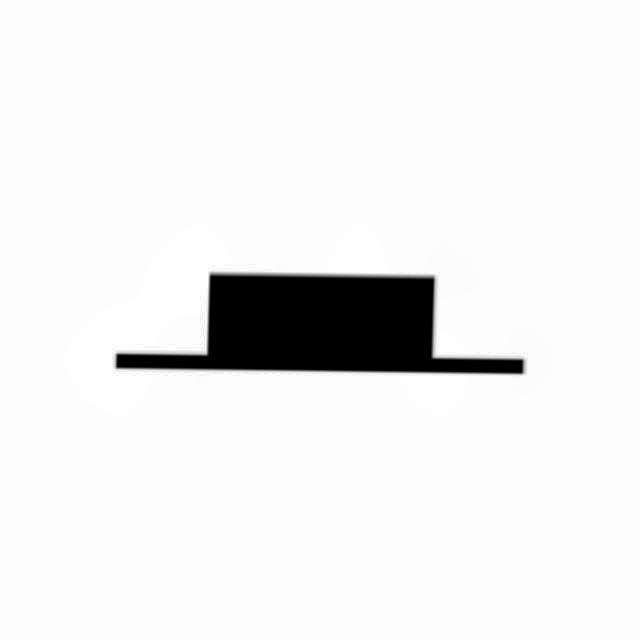Half-rest: (60, 248, 542, 396)
